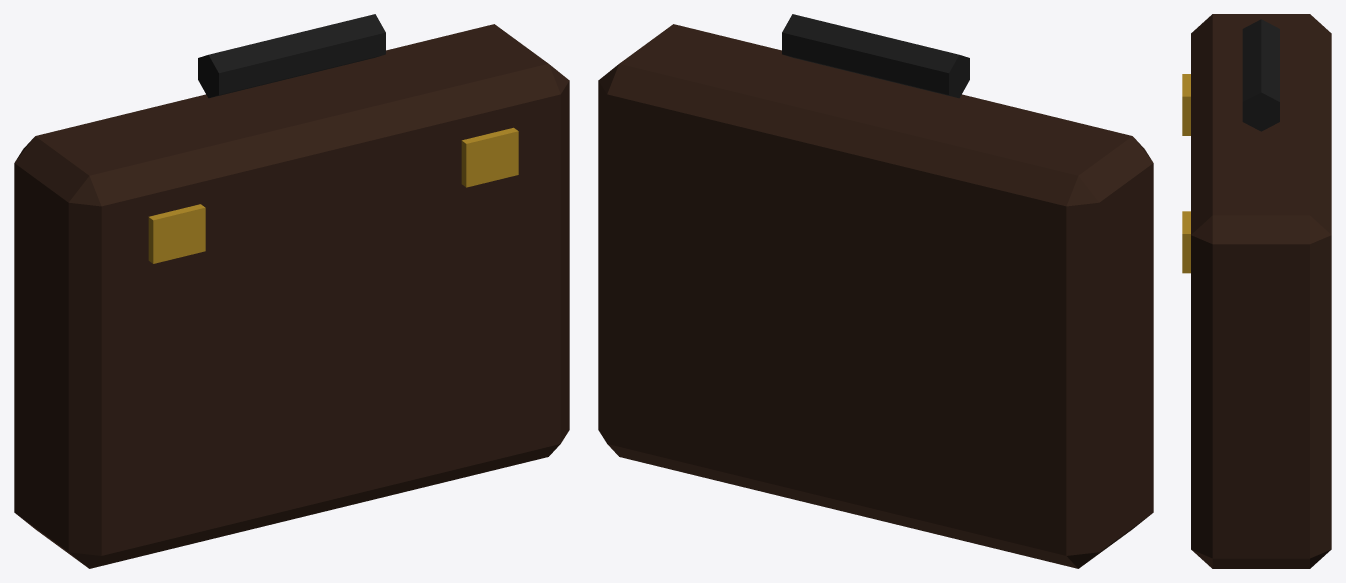
Rendered from briefcase.glb.
3 views of the same model, side by side, from view 1: azimuth 30°, elevation 25°; view 2: azimuth 150°, elevation 25°; view 3: azimuth 270°, elevation 25° (orthographic). The views are drawn at different scales.
Visible parts, largest first — view 1: briefcase; view 2: briefcase; view 3: briefcase.
Boxes of the visible parts, bbox=[...] form: briefcase: bbox=[14, 14, 569, 568]; briefcase: bbox=[598, 14, 1153, 568]; briefcase: bbox=[1182, 14, 1331, 568].
Size of what is drawn, in the model's own units: 0.48 by 0.42 by 0.138.
